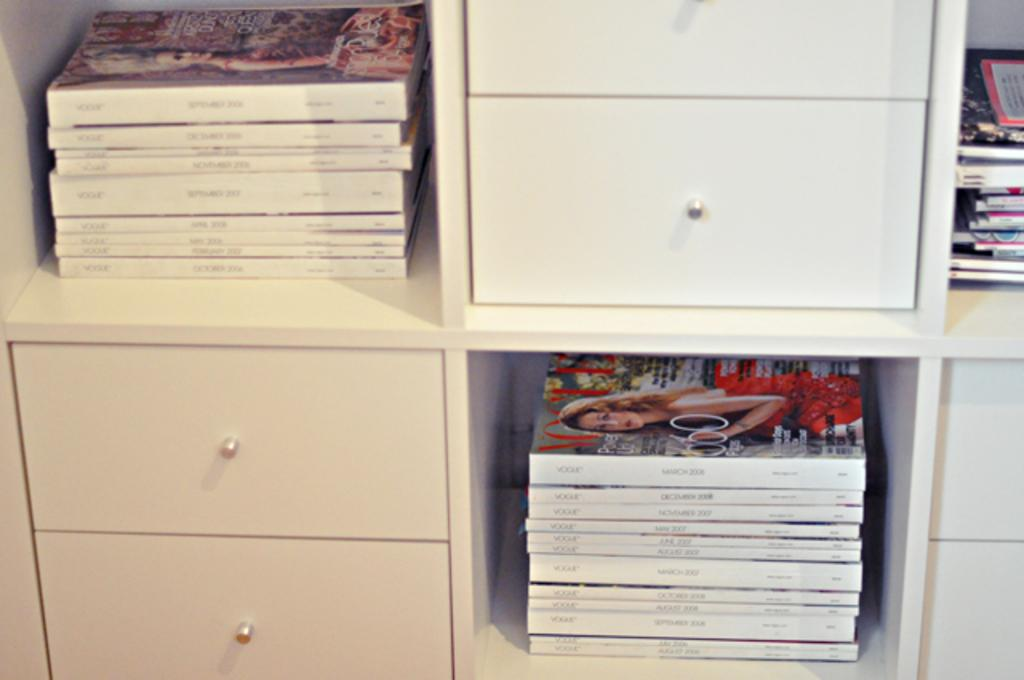cabinet_door: (478, 101, 916, 302), (12, 346, 442, 534), (52, 549, 447, 680), (474, 3, 918, 96), (947, 372, 1024, 541), (939, 552, 1024, 676)
handle: (224, 620, 258, 646), (222, 433, 244, 462), (686, 193, 704, 219)
